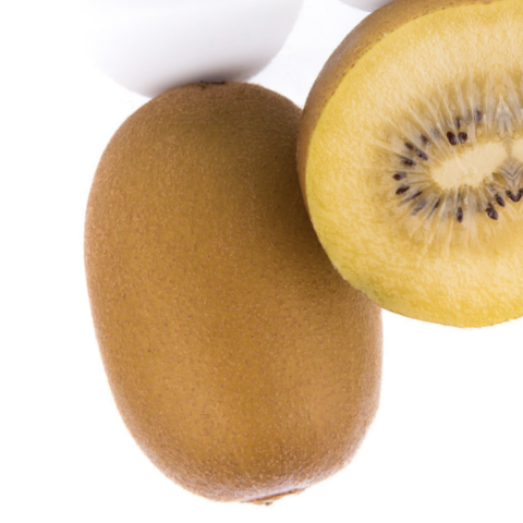kiwi: (0, 5, 457, 523)
